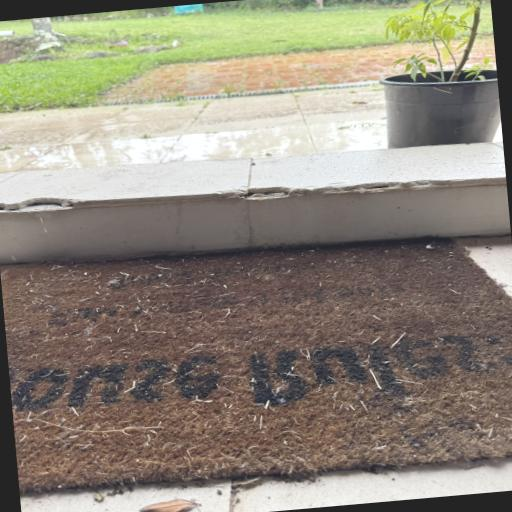step: (0, 143, 511, 264)
